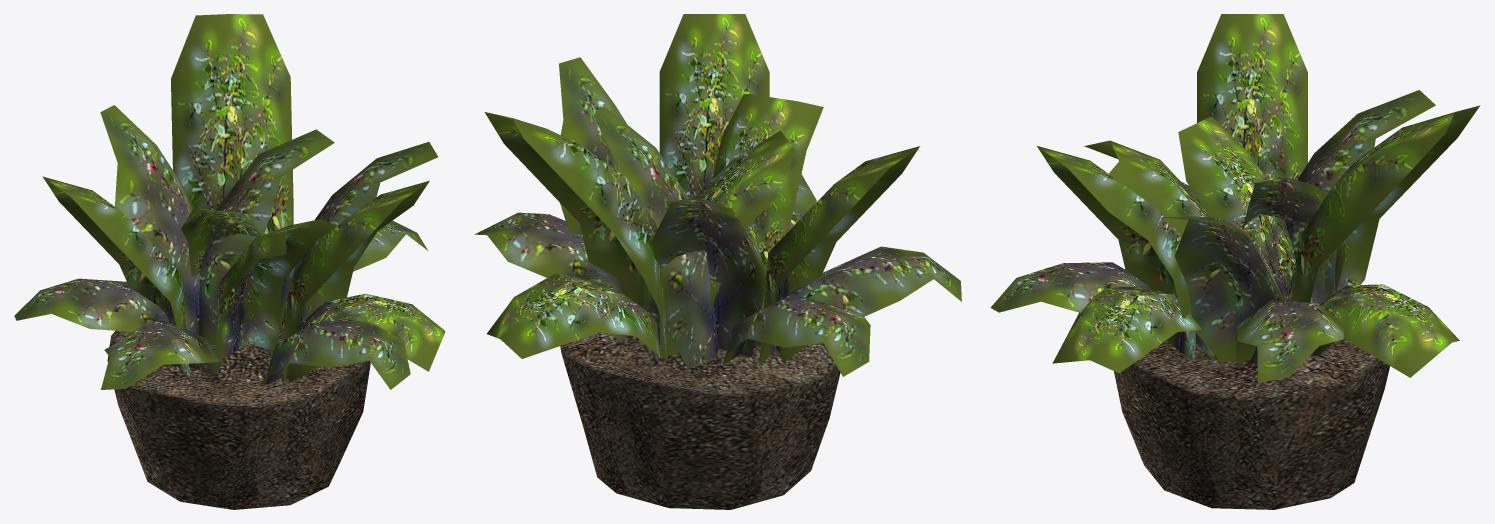
File: flower_barrel_p8.glb
3 renders of one model, left to right at view 1: azimuth 30°, elevation 25°; view 2: azimuth 150°, elevation 25°; view 3: azimuth 270°, elevation 25°, orthographic. The views are drawn at different scales.
Visible parts, largest first — view 1: flower_barrel_p8; view 2: flower_barrel_p8; view 3: flower_barrel_p8.
Part boxes in pixels (box(x1,y1,x2,y2)): flower_barrel_p8: box(14, 14, 445, 509); flower_barrel_p8: box(474, 14, 961, 509); flower_barrel_p8: box(990, 14, 1480, 509).
Bounding box in the file's own units: 1.12 × 1.02 × 1.14.
1 material, 1 textured.
